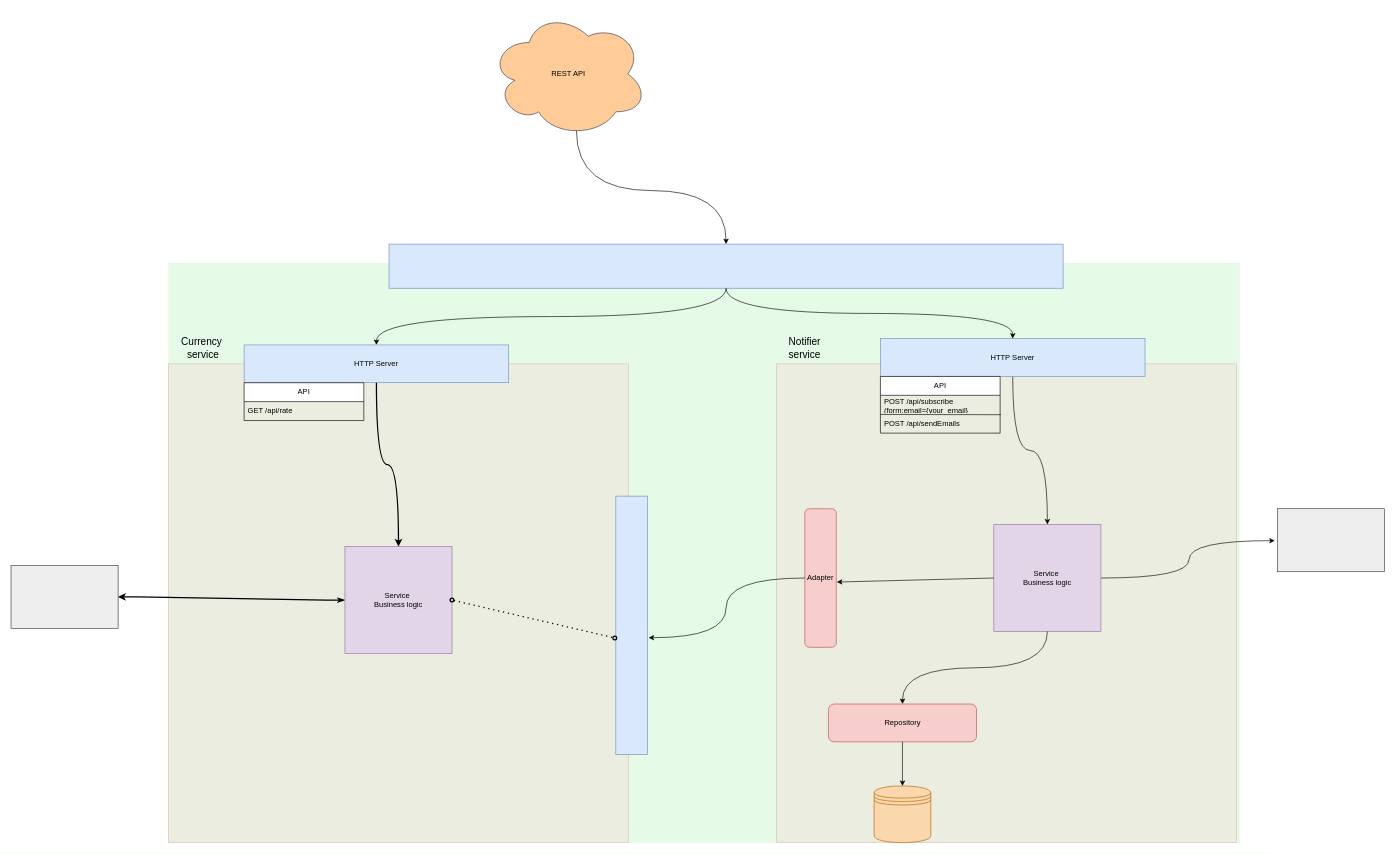
This 1395x854 diagram has some shape labels left out. The shapes that lost their labels are listed below. From the top down, each one's box as (x1, y1, x2, y2) in pixels, then its label:
(388, 243, 1063, 288): API GATEWAY
(1277, 508, 1384, 572): Third Party API SMTP email sender
(10, 565, 118, 628): Third Party API Binane CurrencyAPI CoinGecko
(615, 495, 647, 754): GRPC Server
(873, 785, 931, 843): File Storage
